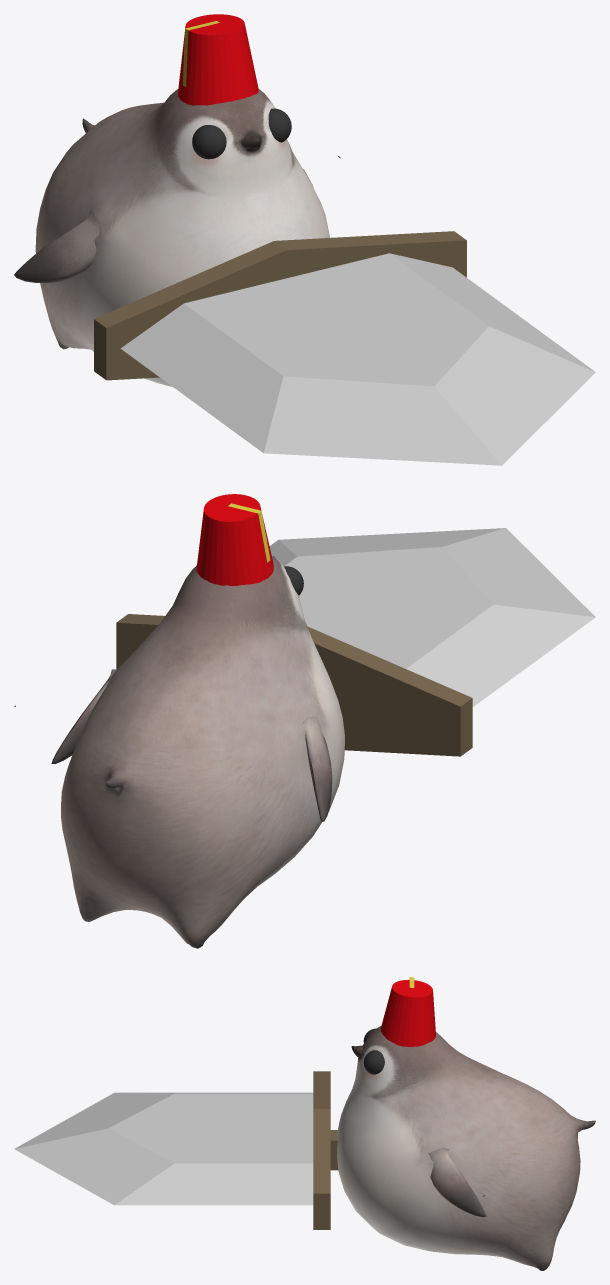
File: player.glb
3 renders of one model, top to bottom at view 1: azimuth 30°, elevation 25°; view 2: azimuth 150°, elevation 25°; view 3: azimuth 270°, elevation 25°, orthographic. The views are drawn at different scales.
Parts seen in each view (by area): view 1: sword, body, fez, rightWing, eyes; view 2: body, sword, fez, rightWing, leftWing; view 3: body, sword, fez, leftWing, eyes.
Boxes of the visible parts, box(x1,y1,x2,y2) form: sword: box(94, 231, 595, 465); body: box(35, 89, 340, 386); fez: box(178, 14, 258, 105); rightWing: box(14, 210, 99, 282); eyes: box(192, 108, 291, 159); body: box(14, 556, 344, 948); sword: box(116, 528, 595, 756); fez: box(196, 494, 273, 585); rightWing: box(302, 716, 332, 821); leftWing: box(51, 669, 116, 763); body: box(336, 1026, 595, 1270); sword: box(14, 1071, 338, 1229); fez: box(380, 977, 435, 1046); leftWing: box(428, 1147, 486, 1217); eyes: box(363, 1028, 384, 1074).
Bounding box in the file's own units: 5.8 × 5.86 × 11.68.
6 materials, 1 textured.
